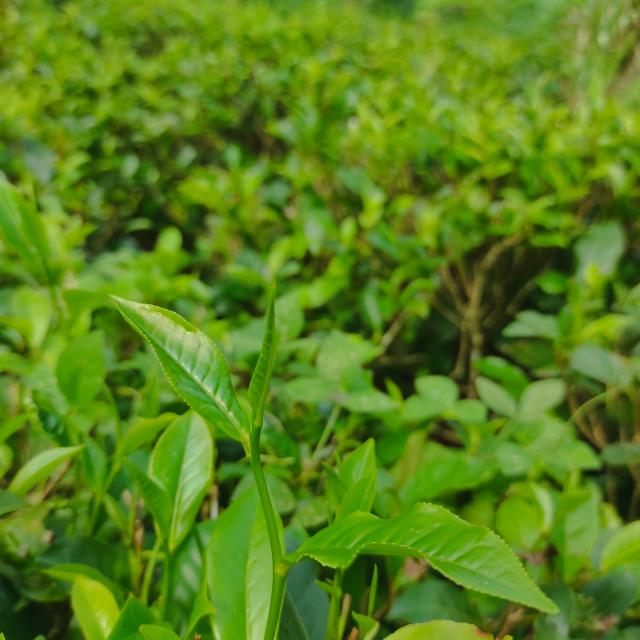unopened_leaf: (241, 270, 287, 439), (355, 555, 387, 624)
